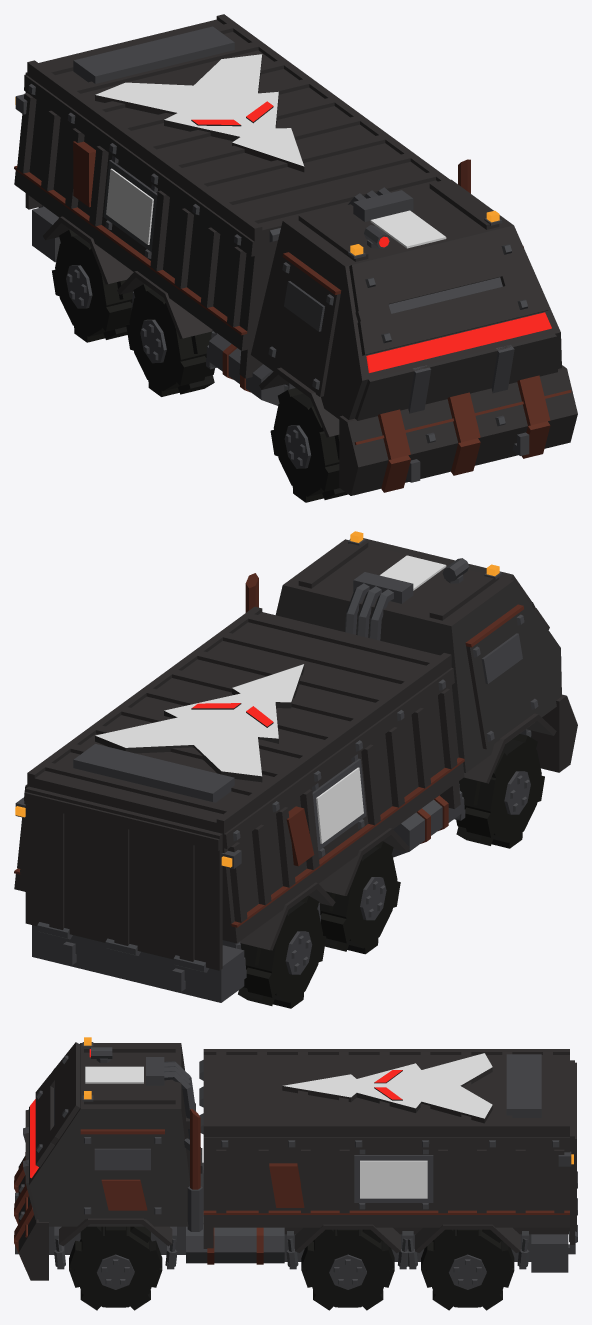
File: cargo_truck.glb
3 views of the same model, one above another, from view 1: azimuth 30°, elevation 25°; view 2: azimuth 150°, elevation 25°; view 3: azimuth 270°, elevation 25° (orthographic). The views are drawn at different scales.
Parts seen in each view (by area): view 1: cab, cargo_lid, cargo_bed, chassis, wheel_MR, wheel_FR, wheel_RR; view 2: cargo_lid, cab, cargo_bed, rear_ramp, chassis, wheel_FR, wheel_RR, wheel_MR; view 3: cargo_bed, cargo_lid, cab, chassis, wheel_FL, wheel_ML, wheel_RL, exhaust_stack, rear_ramp.
Part boxes in pixels (box(x1,y1,x2,y2)): cab: box(251, 179, 561, 420); cargo_lid: box(27, 14, 450, 242); cargo_bed: box(14, 75, 277, 378); chassis: box(32, 206, 577, 495); wheel_MR: box(126, 284, 214, 396); wheel_FR: box(270, 388, 348, 502); wheel_RR: box(52, 229, 132, 342); cargo_lid: box(27, 606, 451, 833); cab: box(275, 531, 561, 772); cargo_bed: box(14, 667, 464, 943); rear_ramp: box(24, 786, 222, 972); chassis: box(32, 694, 577, 1002); wheel_FR: box(456, 734, 544, 848); wheel_RR: box(238, 895, 326, 1008); wheel_MR: box(319, 841, 400, 954); cargo_bed: box(203, 1137, 573, 1248); cargo_lid: box(199, 1049, 569, 1136); cab: box(23, 1037, 203, 1226); chassis: box(14, 1152, 575, 1280); wheel_FL: box(69, 1226, 162, 1310); wheel_ML: box(301, 1229, 394, 1310); wheel_RL: box(421, 1229, 514, 1310); exhaust_stack: box(184, 1109, 203, 1231); rear_ramp: box(569, 1060, 577, 1244).
Bounding box in the file's own units: 3 × 3.25 × 8.01.
